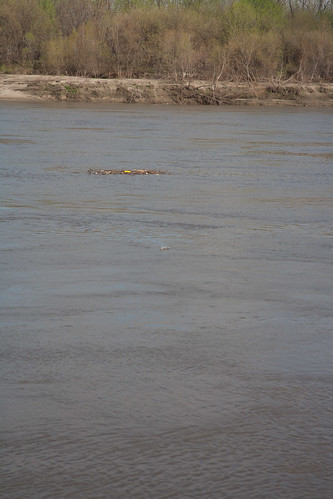river: (8, 104, 333, 499)
vegetation: (1, 1, 321, 77)
